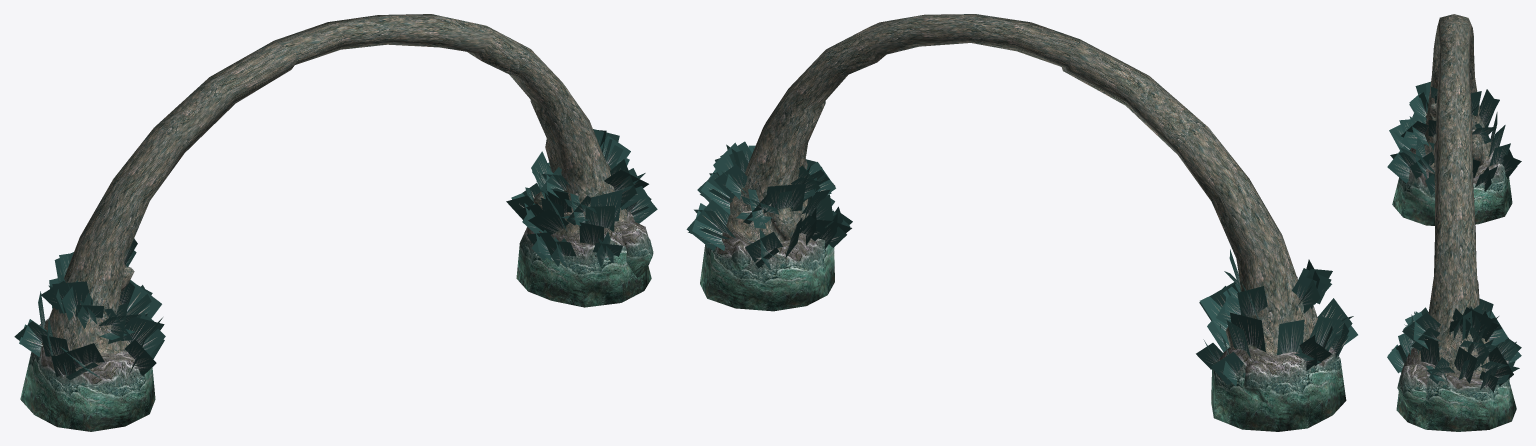
Rendered from rock_crystl_arch_sm_l0.fbx.
3 views of the same model, side by side, from view 1: azimuth 30°, elevation 25°; view 2: azimuth 150°, elevation 25°; view 3: azimuth 270°, elevation 25° (orthographic). The views are drawn at different scales.
Visible parts, largest first — view 1: mesh_node; view 2: mesh_node; view 3: mesh_node.
Boxes of the visible parts, bbox=[...] form: mesh_node: bbox=[14, 14, 657, 431]; mesh_node: bbox=[686, 14, 1357, 431]; mesh_node: bbox=[1387, 14, 1521, 431].
Bounding box in the file's own units: 55.7 × 26.92 × 12.41.
